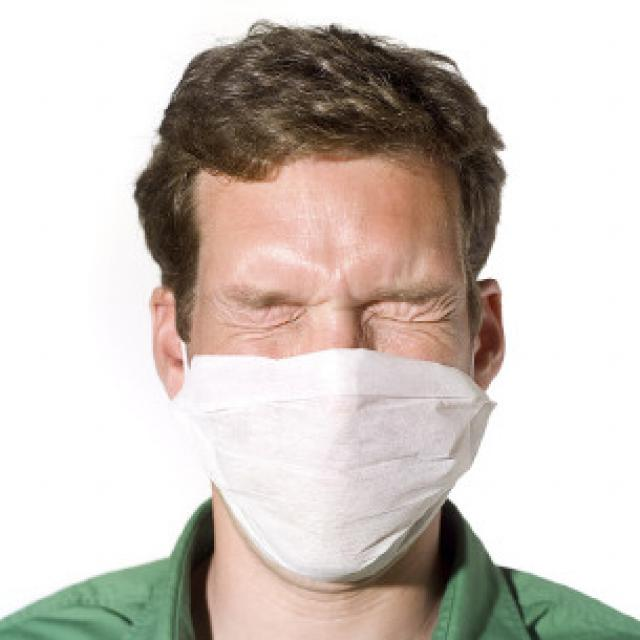mask: (170, 166, 489, 581)
